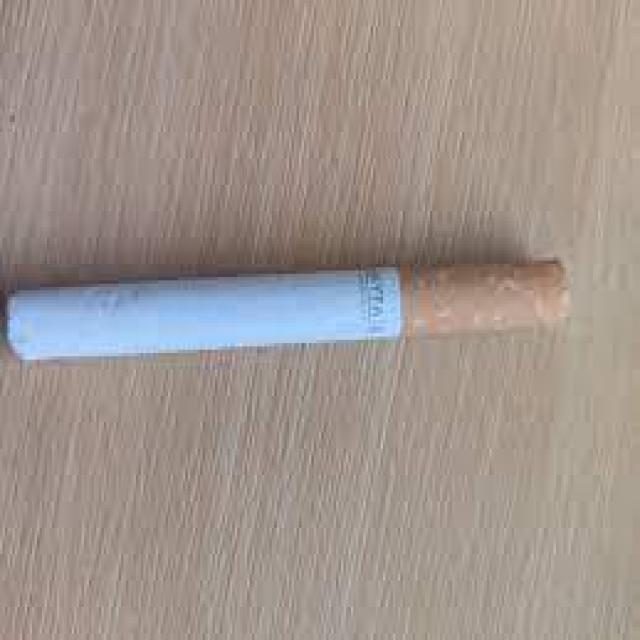cigarette: (5, 261, 571, 366)
